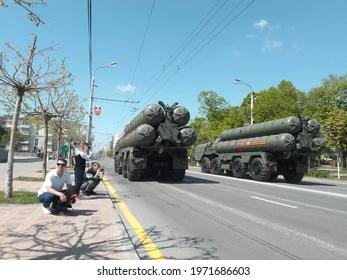MIL_SAM_TEL: (194, 116, 324, 181), (112, 100, 199, 182)
